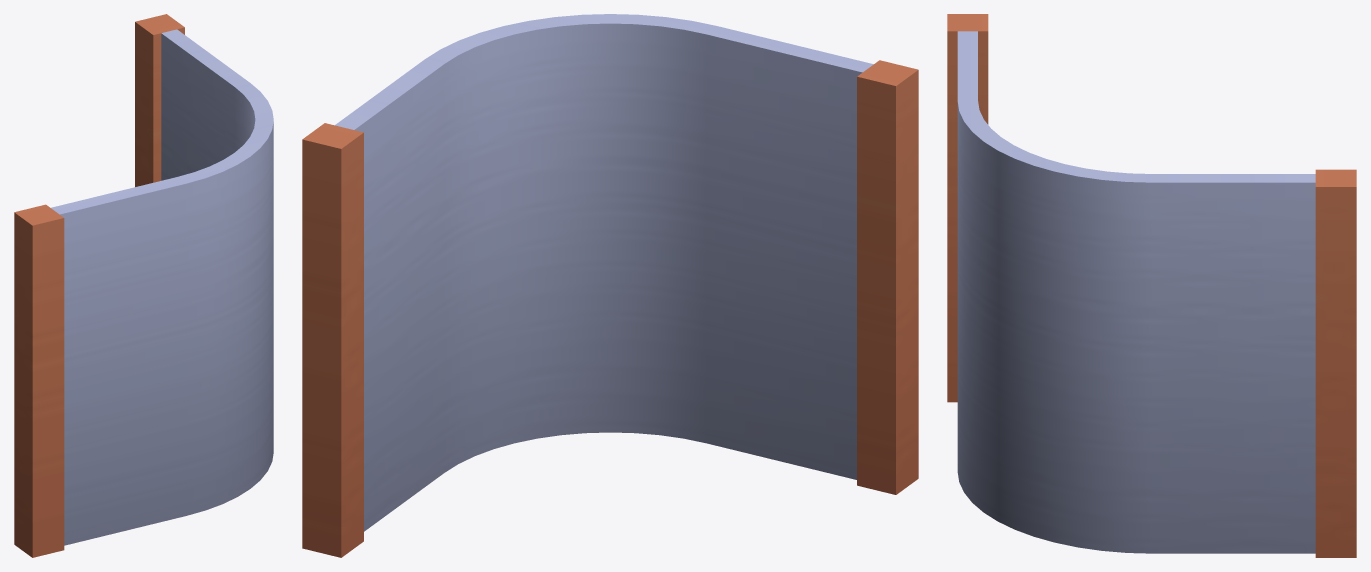
File: wallRounded.fbx
The picture shows the model from 3 angles, left to right: view 1: azimuth 30°, elevation 25°; view 2: azimuth 150°, elevation 25°; view 3: azimuth 270°, elevation 25°; orthographic projection. The views are drawn at different scales.
Parts seen in each view (by area): view 1: wallRounded; view 2: wallRounded; view 3: wallRounded.
Part boxes in pixels (box(x1,y1,x2,y2)): wallRounded: box(14, 14, 273, 557); wallRounded: box(302, 14, 918, 557); wallRounded: box(947, 14, 1356, 557).
Size of the model in its own units: 1 by 1 by 1.
